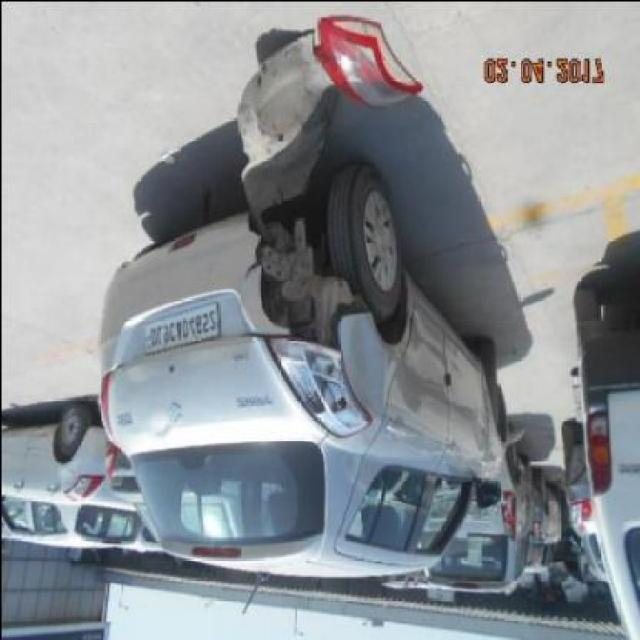damage: (248, 212, 372, 348), (267, 332, 373, 439), (148, 407, 173, 436)
